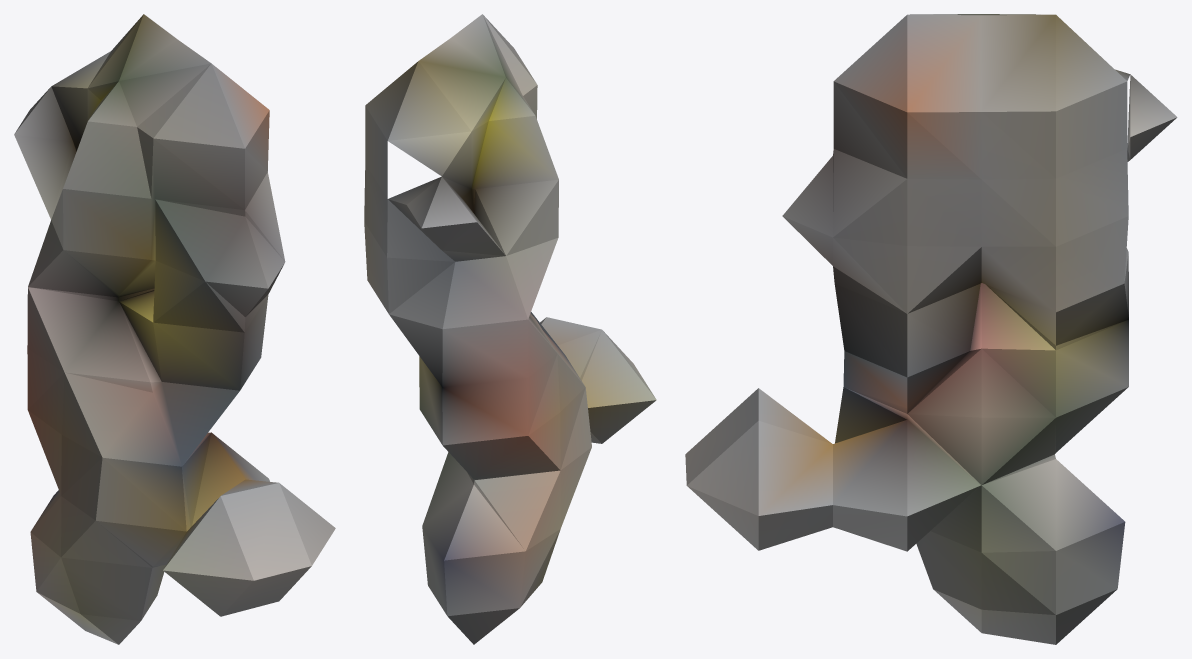
The model's file is 000000_vespa_scooter_bicycle_12288_16.glb.
The picture shows the model from 3 angles, left to right: view 1: azimuth 30°, elevation 25°; view 2: azimuth 150°, elevation 25°; view 3: azimuth 270°, elevation 25°; orthographic projection. The views are drawn at different scales.
Visible parts, largest first — view 1: world; view 2: world; view 3: world.
Boxes of the visible parts, box(x1,y1,x2,y2) form: world: box(14, 14, 335, 644); world: box(364, 14, 656, 644); world: box(685, 14, 1177, 644).
Size of the model in its own units: 0.3456 by 1.14 by 0.7677.
